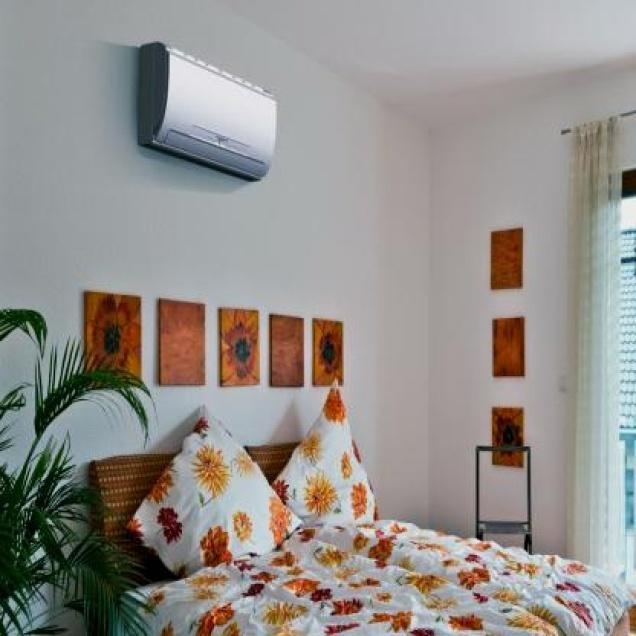AC: (135, 41, 277, 183)
